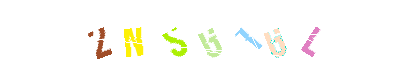1: (187, 0, 267, 80)
2: (61, 0, 141, 80)
G: (168, 0, 248, 80), (216, 0, 296, 80)
L: (256, 0, 336, 80)
N: (93, 0, 173, 80)
S: (136, 0, 216, 80)
